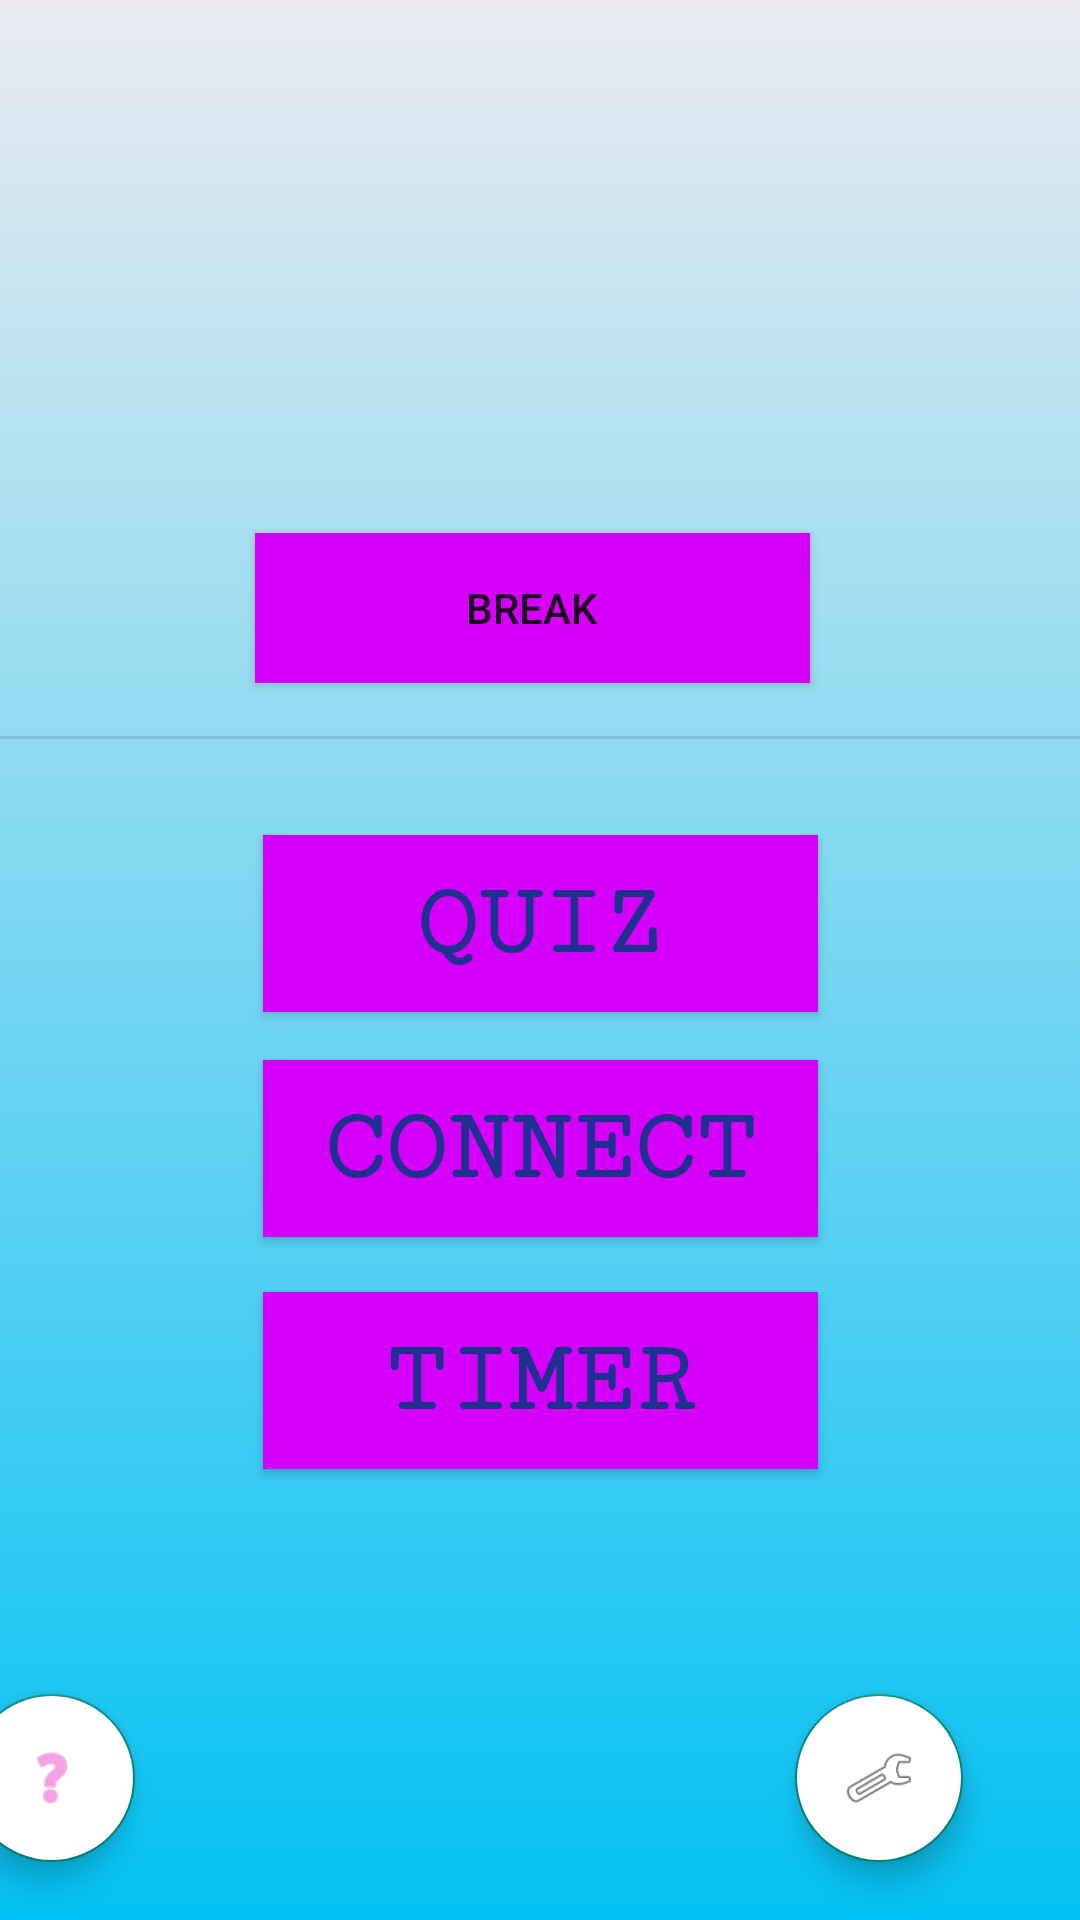

Icon click points for this 1080w x 1920h phone screenshot, format point (x, y):
manage: point (879, 1778)
